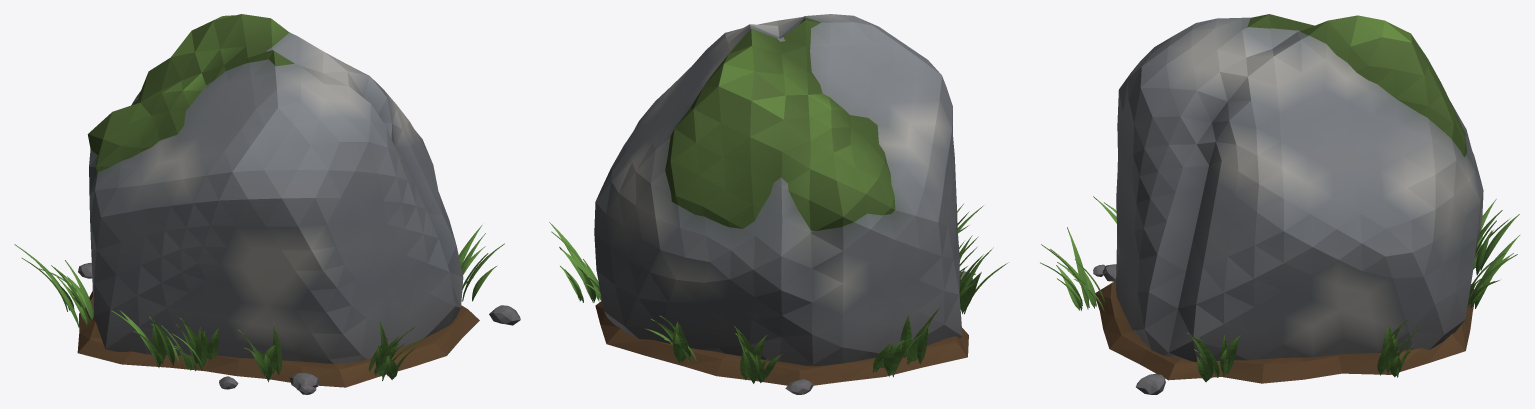
The model's file is lichen-granite-boulder.glb.
3 renders of one model, left to right at view 1: azimuth 30°, elevation 25°; view 2: azimuth 150°, elevation 25°; view 3: azimuth 270°, elevation 25°, orthographic. The views are drawn at different scales.
Parts seen in each view (by area): view 1: lichen_granite_boulder; view 2: lichen_granite_boulder; view 3: lichen_granite_boulder.
Part boxes in pixels (left/top/right/bottom): lichen_granite_boulder: left=14, top=14, right=520, bottom=394; lichen_granite_boulder: left=549, top=14, right=1008, bottom=394; lichen_granite_boulder: left=1040, top=14, right=1519, bottom=394.
Size of the model in its own units: 1.85 by 1.3 by 1.92.
